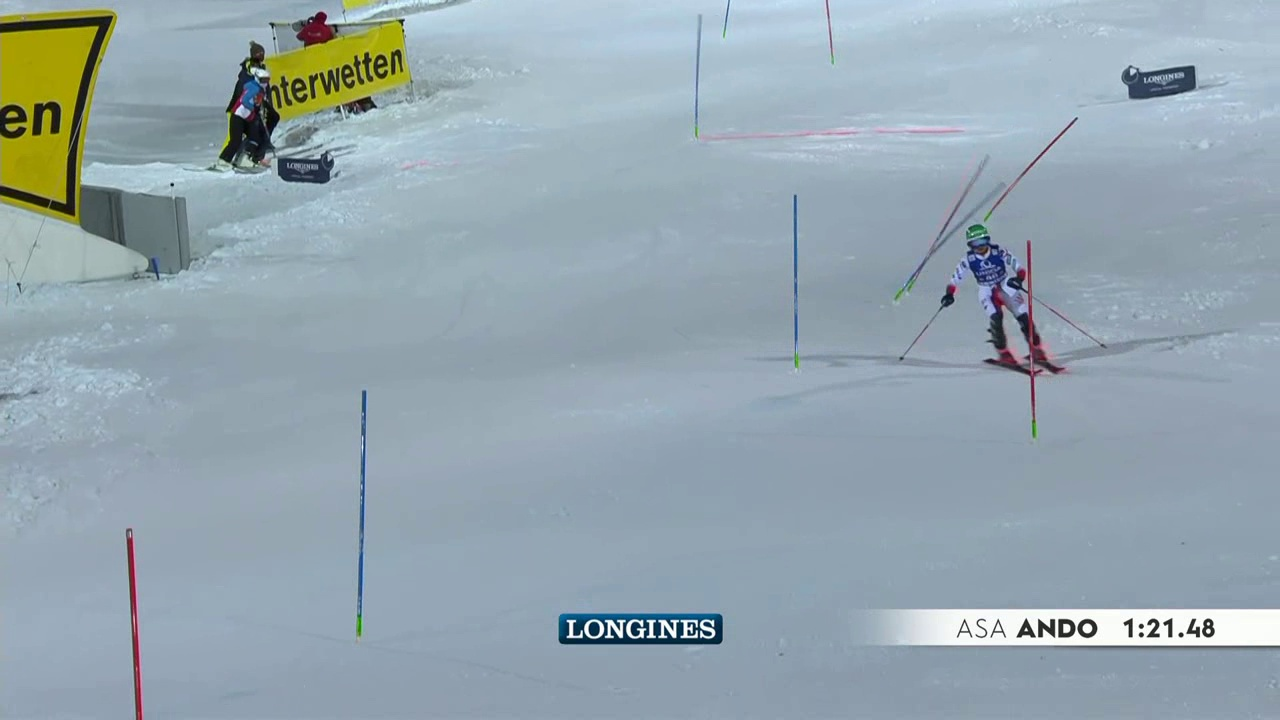interwetten: (1, 20, 98, 216)
longines: (553, 612, 734, 647)
raiffeisen: (250, 28, 413, 129), (1, 40, 100, 199)
